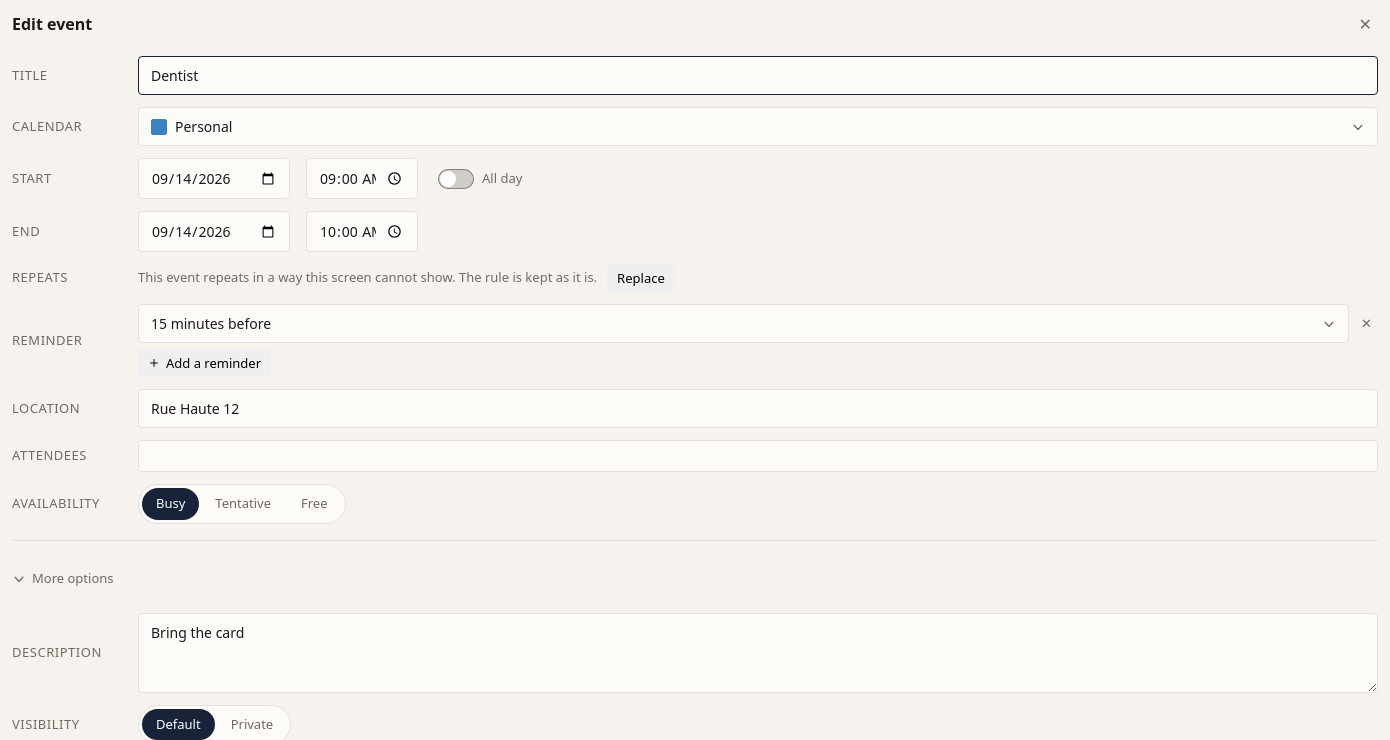
Test: EventEditor › locks a rule this screen cannot draw, and Replace unlocks it
Expected: the text "repeats in a way this screen cannot show" is shown, x1=138 y1=268 x2=597 y2=286
Expected: the element "repeats" is shown, x1=138 y1=264 x2=675 y2=292
Note: Replacing starts from a rule the block can draw, never from the one it cannot.
Click the button "Replace". click: click(641, 278)
box: x1=607 y1=264 x2=675 y2=292
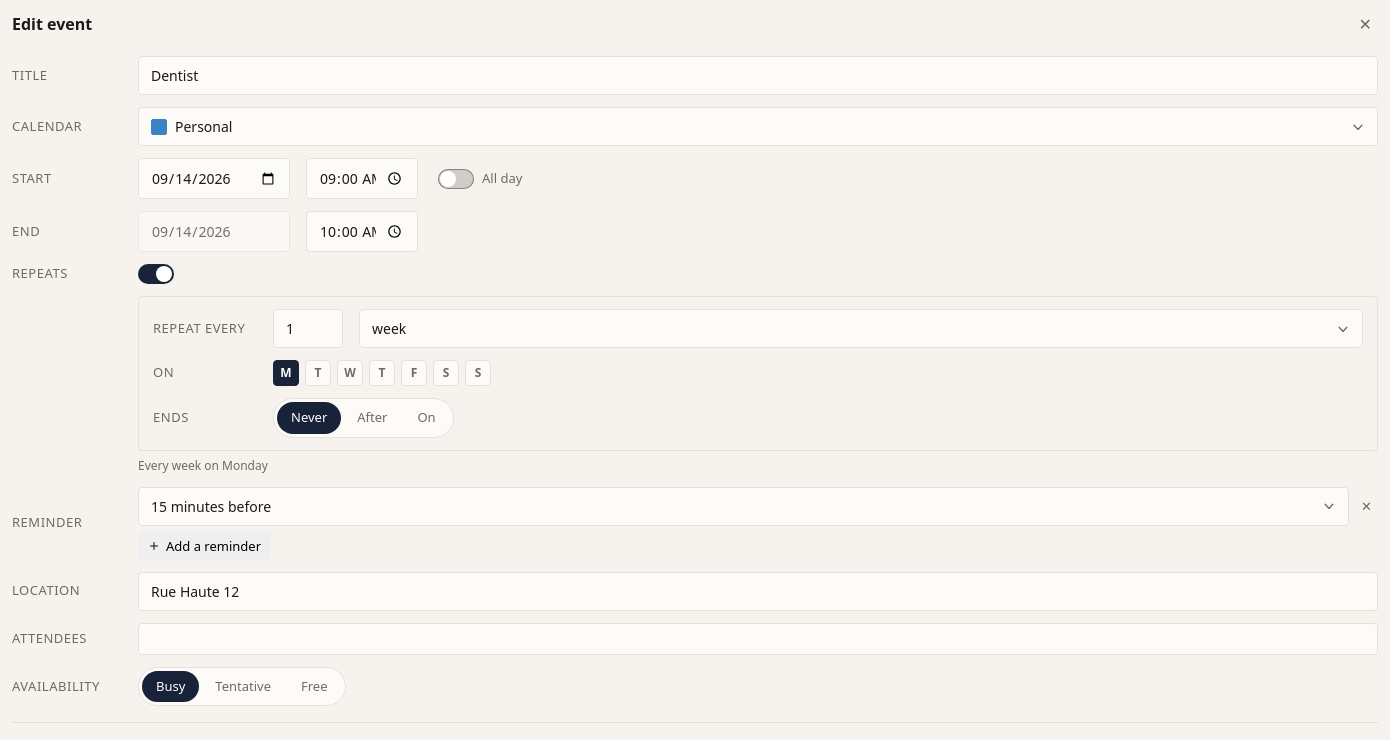
Result: the checkbox labelled "Repeats" is checked at x1=12 y1=264 x2=68 y2=282
Result: the checkbox named "Monday" is checked at x1=273 y1=360 x2=299 y2=386
